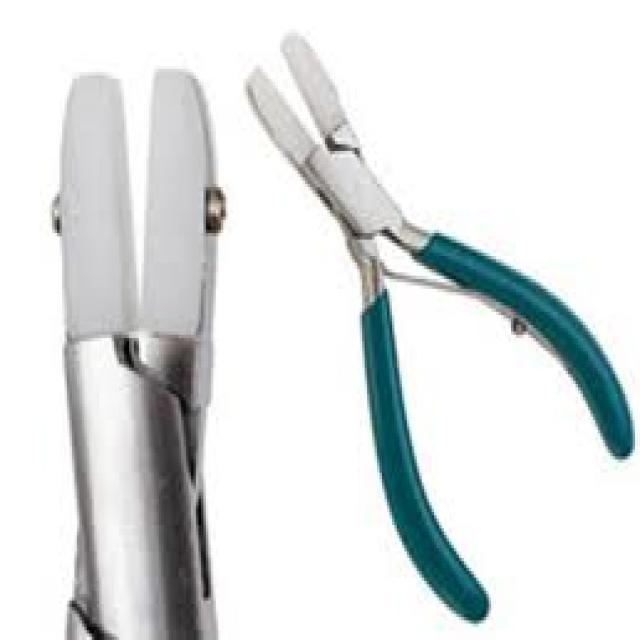pliers: (228, 18, 632, 622)
